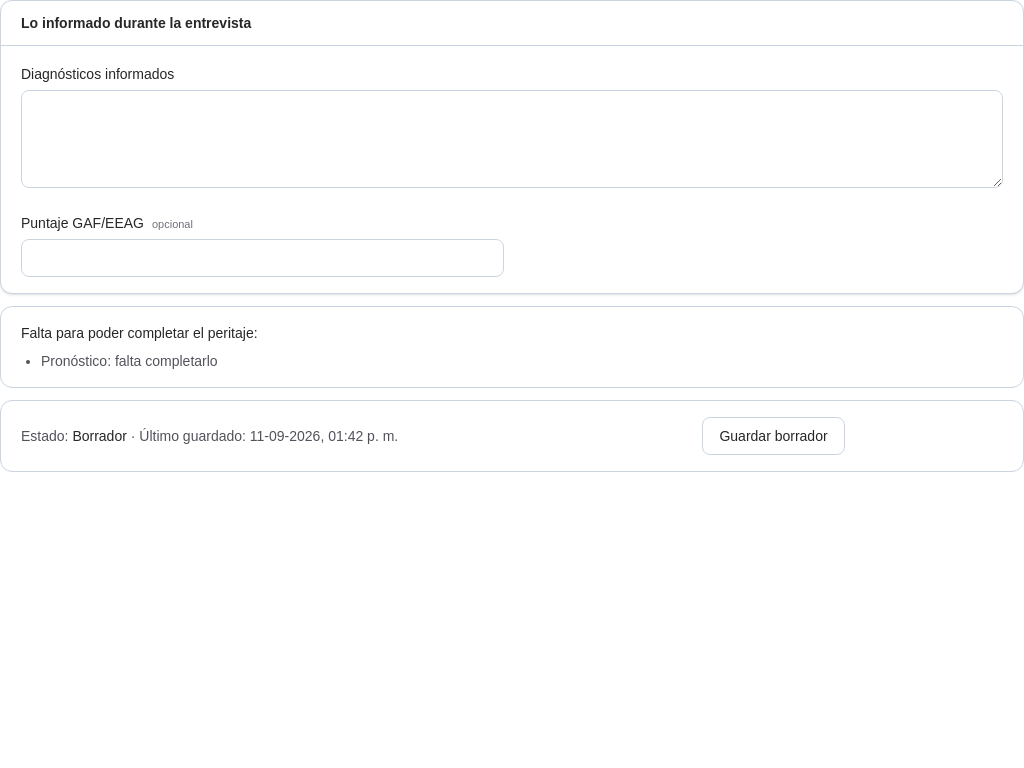
Test: formulario del peritaje › un 409 AVISA y NO borra lo escrito
Type "Texto que no se puede perder." into the text box labelled "Diagnósticos informados". click: (512, 139)
box: [21,90,1003,188]
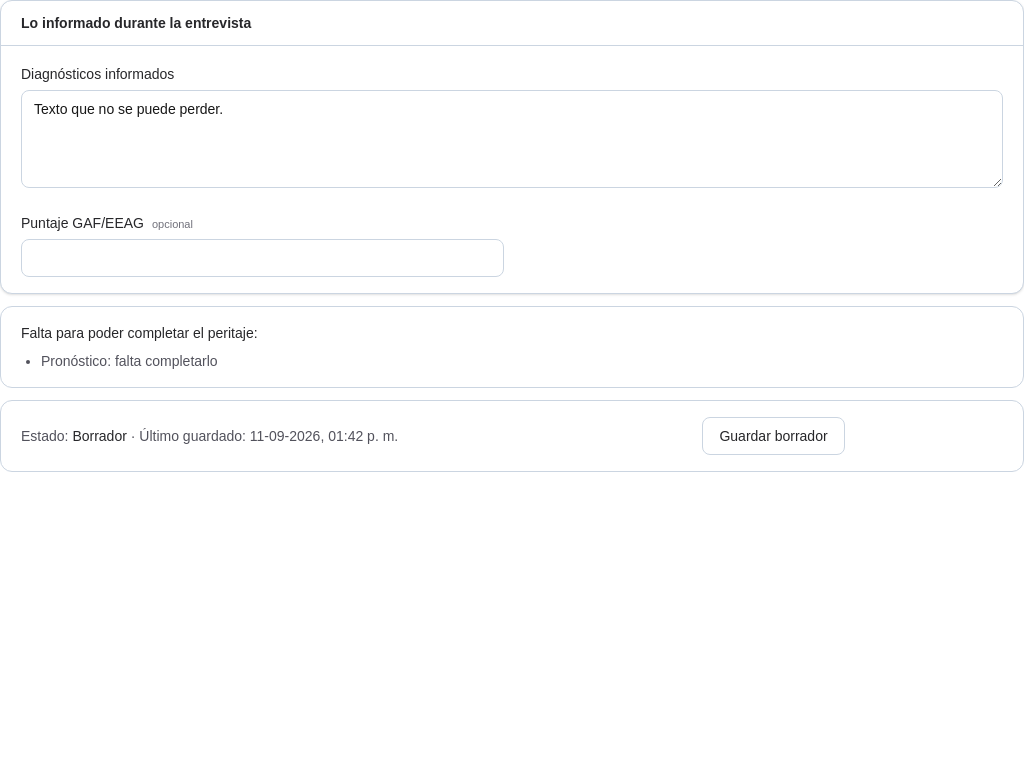
Click the button "Guardar borrador". click: (774, 436)
box: [702,417,845,455]
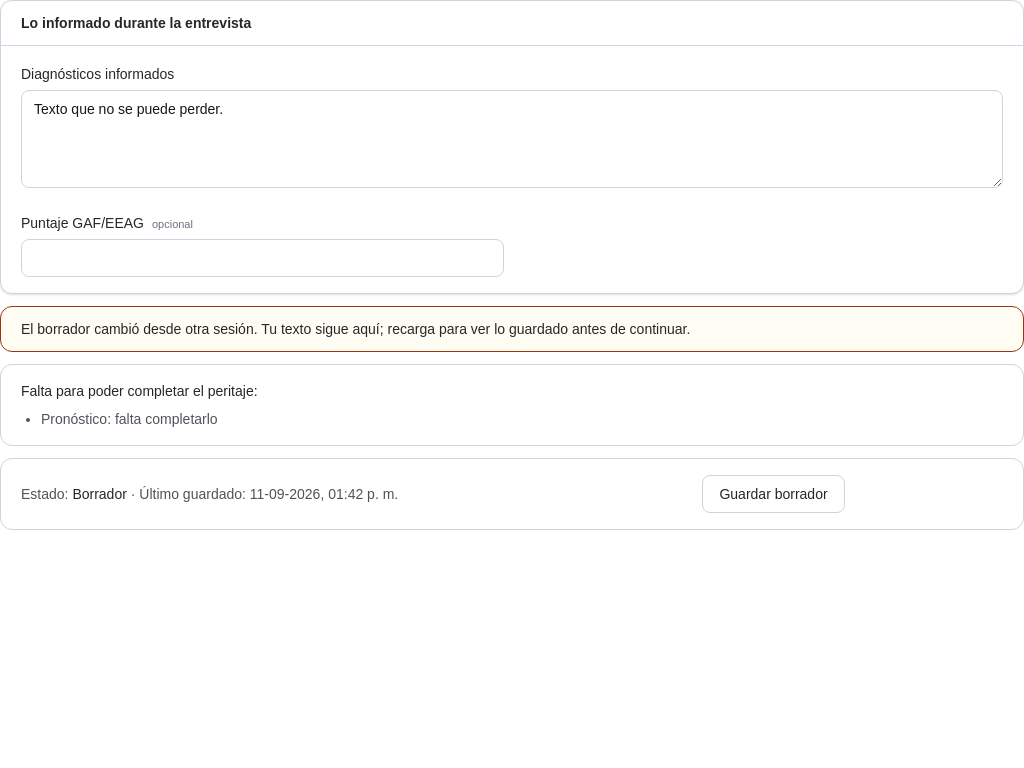
Result: the message is shown at [0,306,1023,352]
Result: the message shows "cambió desde otra sesión" at [21,321,690,337]
